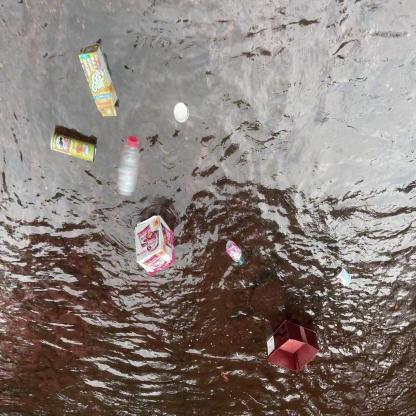Metal: (46, 126, 102, 168), (330, 261, 354, 288)
Plastic: (114, 132, 140, 199), (221, 232, 245, 270)
Trash: (170, 96, 193, 124)
